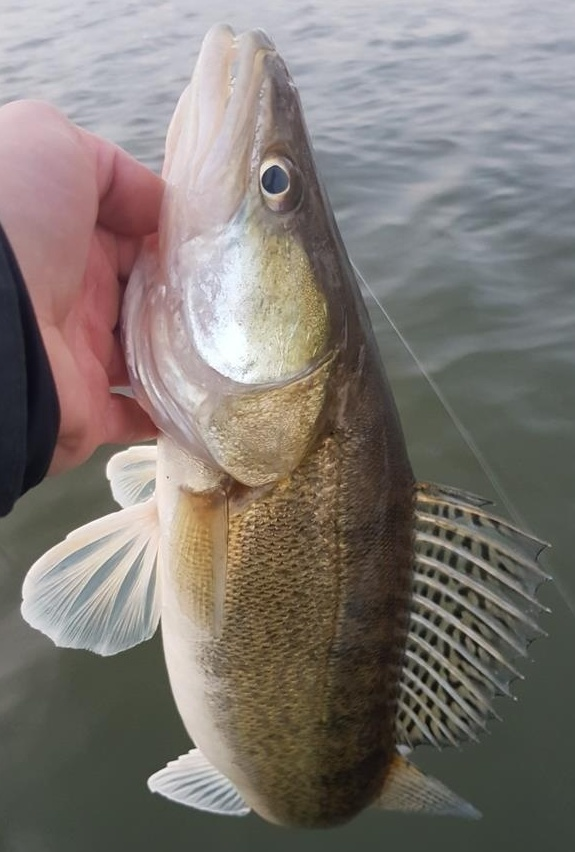Sander lucioperca: (20, 20, 555, 832)
